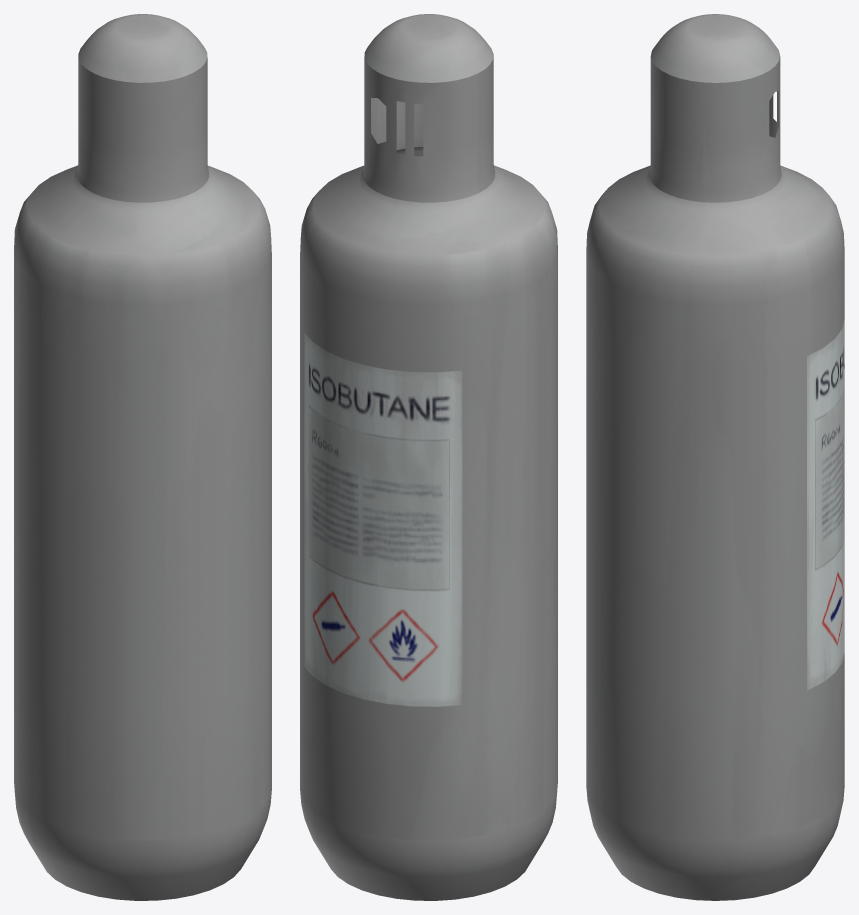
File: Bombonne.fbx
The picture shows the model from 3 angles, left to right: view 1: azimuth 30°, elevation 25°; view 2: azimuth 150°, elevation 25°; view 3: azimuth 270°, elevation 25°; orthographic projection.
Visible parts, largest first — view 1: TAG_bombone.001; view 2: TAG_bombone.001; view 3: TAG_bombone.001.
Boxes of the visible parts, x1,y1,x2,y2 form: TAG_bombone.001: (14,14,271,900); TAG_bombone.001: (300,14,557,900); TAG_bombone.001: (586,14,844,900).
Bounding box in the file's own units: 0.1095 × 0.1095 × 0.3886.
